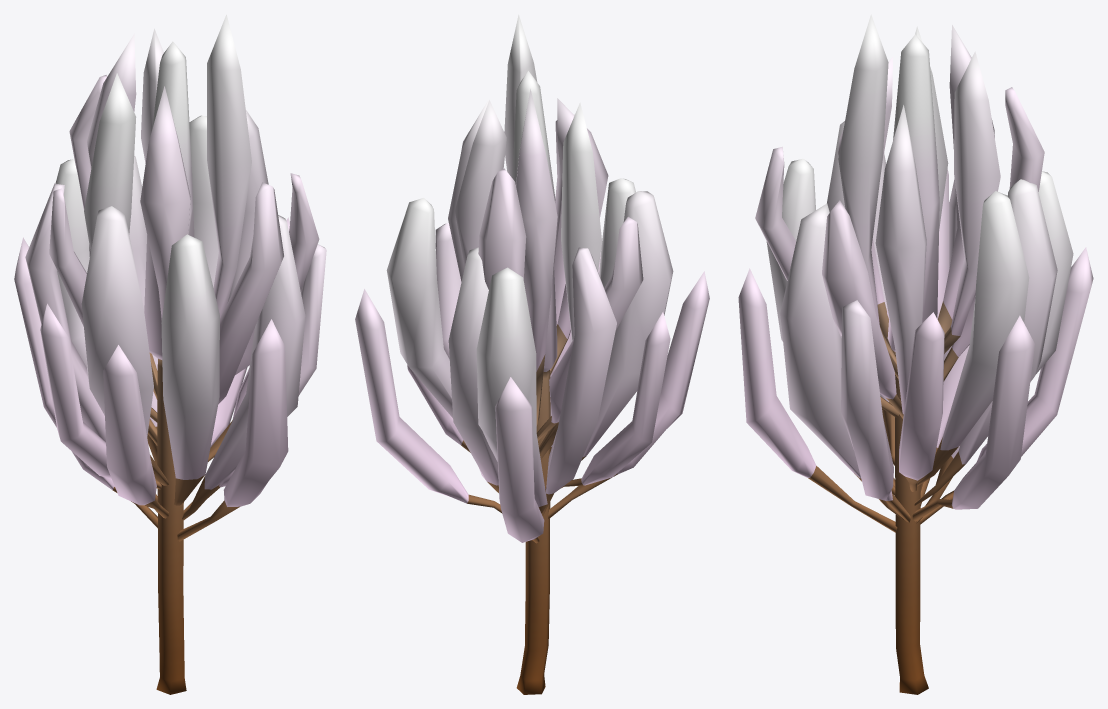
Rendered from BradfordPearTree.fbx.
3 views of the same model, side by side, from view 1: azimuth 30°, elevation 25°; view 2: azimuth 150°, elevation 25°; view 3: azimuth 270°, elevation 25° (orthographic). The views are drawn at different scales.
Parts seen in each view (by area): view 1: BradfordPearTree; view 2: BradfordPearTree; view 3: BradfordPearTree.
Boxes of the visible parts, x1,y1,x2,y2 form: BradfordPearTree: (14, 14, 326, 694); BradfordPearTree: (355, 14, 709, 694); BradfordPearTree: (738, 14, 1093, 694).
Bounding box in the file's own units: 163 × 392 × 183.
